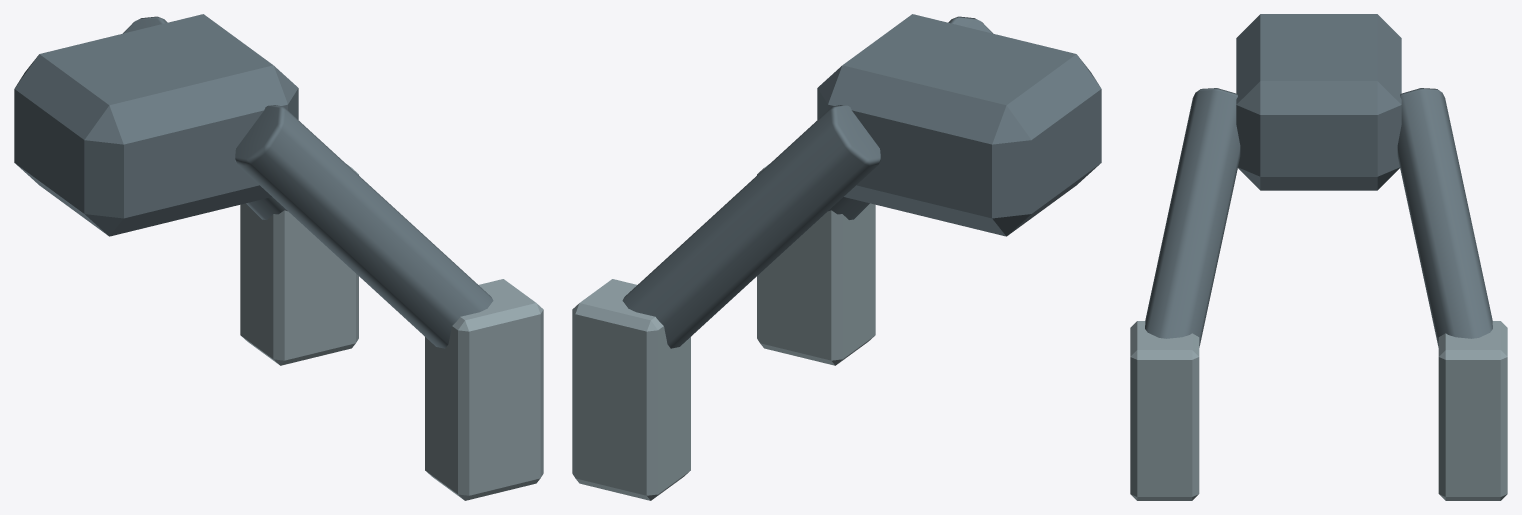
File: SM_Drudge_Tools.fbx
3 renders of one model, left to right at view 1: azimuth 30°, elevation 25°; view 2: azimuth 150°, elevation 25°; view 3: azimuth 270°, elevation 25°, orthographic. The views are drawn at different scales.
Visible parts, largest first — view 1: SM_Drudge_Tools; view 2: SM_Drudge_Tools; view 3: SM_Drudge_Tools.
Part boxes in pixels (x1=…): SM_Drudge_Tools: x1=14, y1=14, x2=543, y2=500; SM_Drudge_Tools: x1=572, y1=14, x2=1101, y2=500; SM_Drudge_Tools: x1=1130, y1=14, x2=1507, y2=500.
Size of the model in its own units: 12.86 by 13.05 by 13.09.
